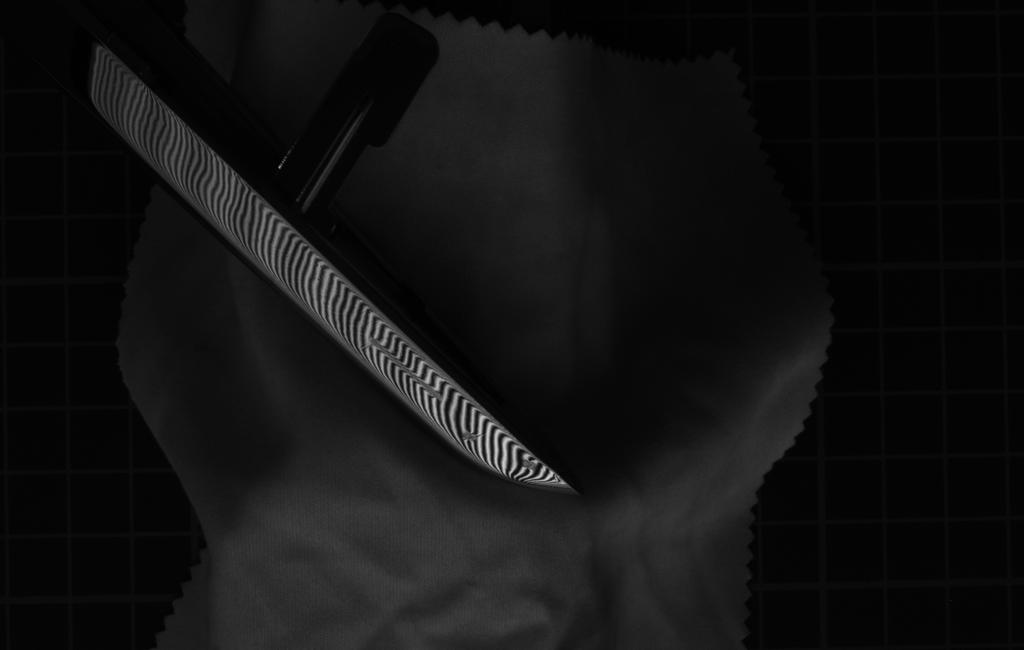Pierced: (517, 456, 546, 476), (453, 426, 479, 445)
Scratch: (369, 337, 447, 401)
